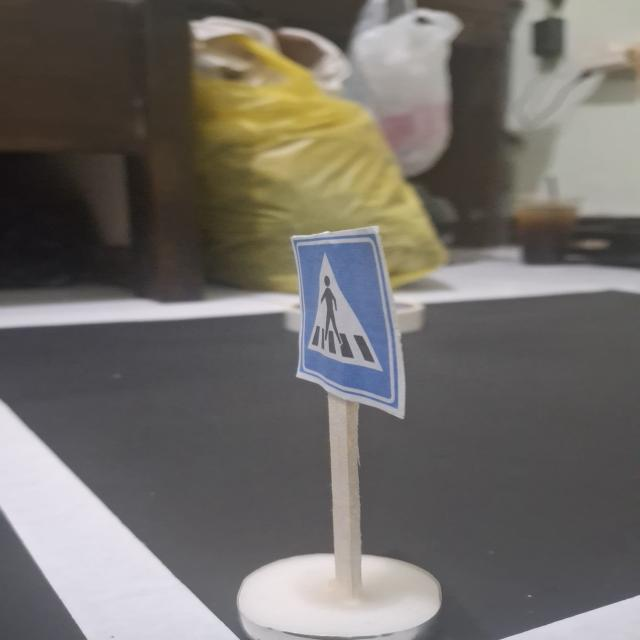Rambu Penyebrangan: (291, 234, 385, 407)
